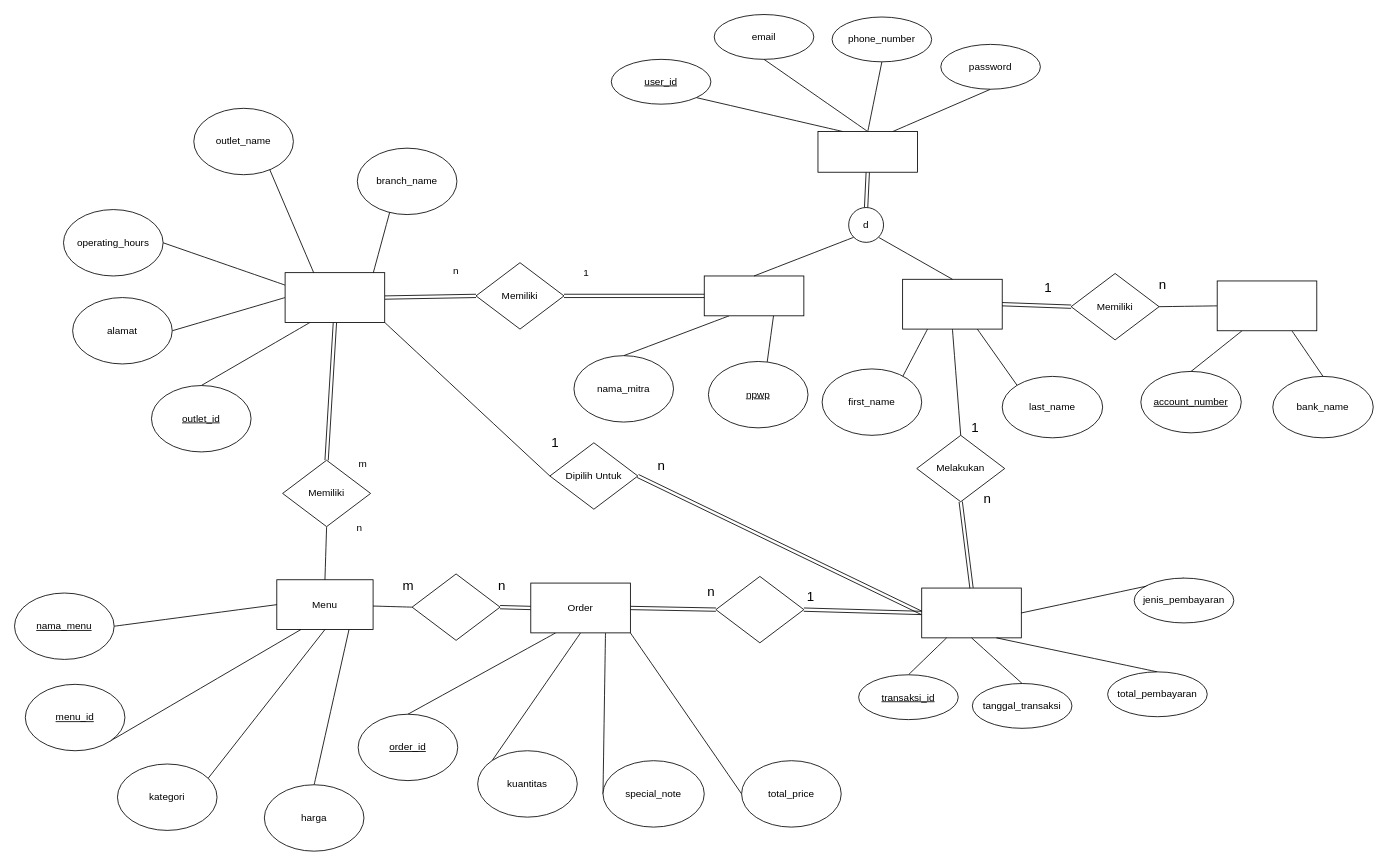
The diagram is 1388 pixels wide and 866 high, and some of its shapes have lost their labels. Here are the shapes that lost their labels. From the top down, the centre of each, then its label:
At (x=867, y=151): "User".
At (x=334, y=297): "Outlet".
At (x=753, y=295): "Mitra".
At (x=952, y=303): "Customer".
At (x=1266, y=305): "Bank Account".
At (x=455, y=606): "Dipesan".
At (x=759, y=609): "Terdiri dari".
At (x=971, y=612): "Transaksi".
